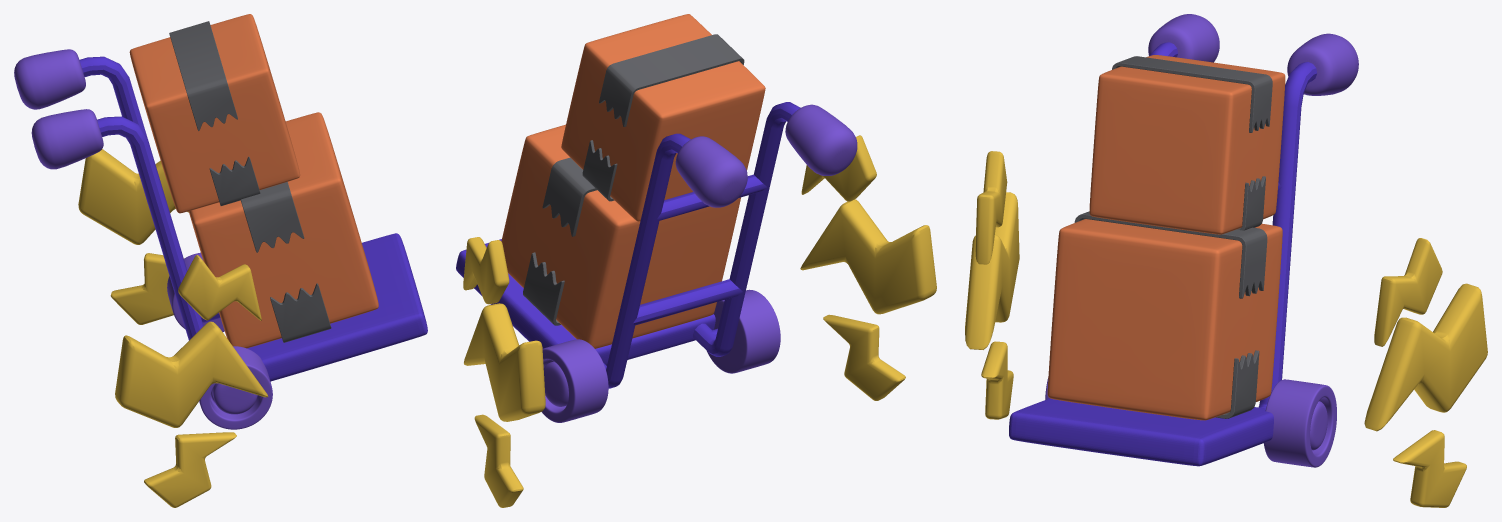
Rendered from fast-delivery-3d-icon-1063398034117.glb.
The picture shows the model from 3 angles, left to right: view 1: azimuth 30°, elevation 25°; view 2: azimuth 150°, elevation 25°; view 3: azimuth 270°, elevation 25°; orthographic projection. The views are drawn at different scales.
Parts seen in each view (by area): view 1: Box, Effect, Frame, Tape, Handle & Wheels; view 2: Box, Effect, Frame, Handle & Wheels, Tape; view 3: Box, Effect, Frame, Handle & Wheels, Tape.
Part boxes in pixels (left/top/right/bottom): Box: left=129, top=14, right=378, bottom=348; Effect: left=78, top=149, right=268, bottom=507; Frame: left=79, top=56, right=427, bottom=381; Tape: left=169, top=21, right=331, bottom=342; Handle & Wheels: left=14, top=49, right=272, bottom=429; Box: left=501, top=14, right=765, bottom=348; Effect: left=463, top=135, right=936, bottom=507; Frame: left=456, top=102, right=800, bottom=388; Handle & Wheels: left=541, top=104, right=857, bottom=422; Tape: left=523, top=34, right=744, bottom=325; Box: left=1047, top=55, right=1285, bottom=420; Effect: left=965, top=151, right=1487, bottom=507; Frame: left=1009, top=42, right=1317, bottom=466; Handle & Wheels: left=1045, top=14, right=1358, bottom=467; Tape: left=1074, top=56, right=1272, bottom=418.
Bounding box in the file's own units: 1.57 × 1.49 × 1.68.
